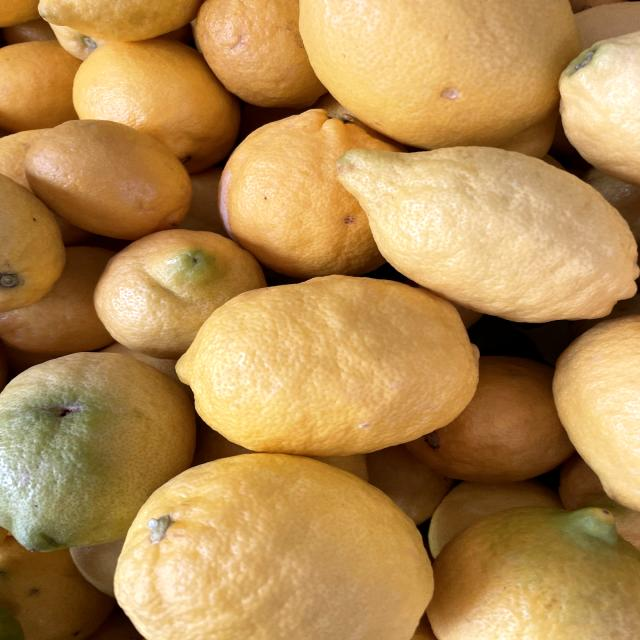lemon: (158, 261, 498, 462), (106, 445, 446, 640), (326, 128, 640, 325), (21, 114, 198, 240)
